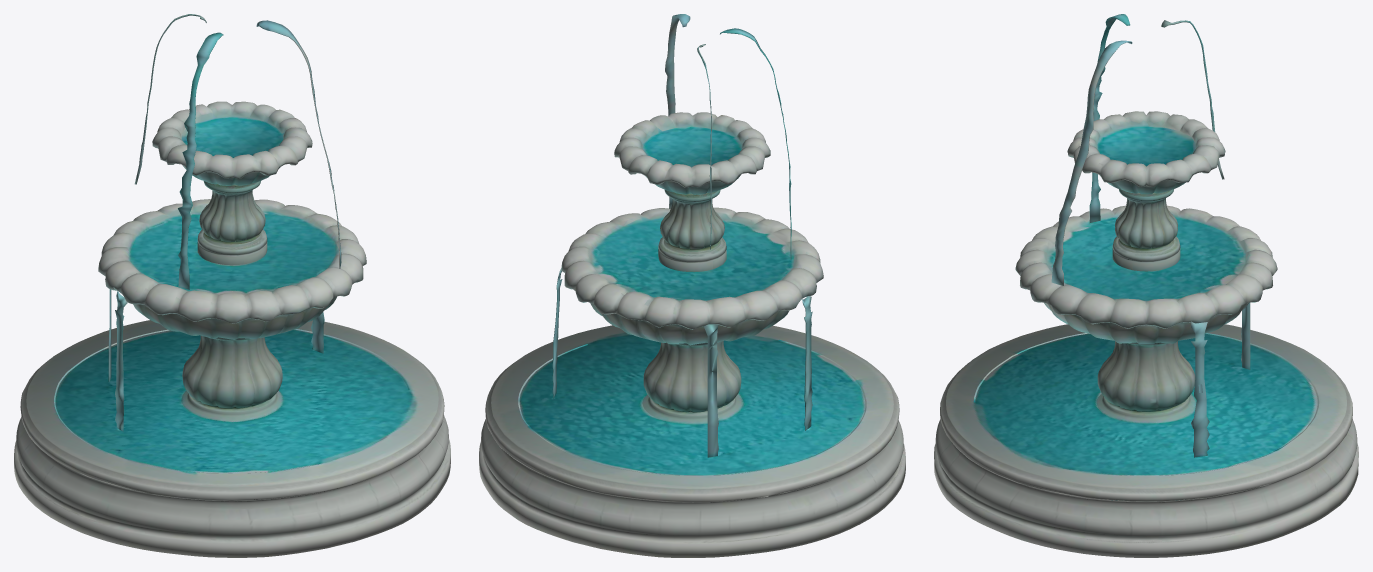
File: fountain_12fc89f5_v3.glb
3 views of the same model, side by side, from view 1: azimuth 30°, elevation 25°; view 2: azimuth 150°, elevation 25°; view 3: azimuth 270°, elevation 25° (orthographic). The views are drawn at different scales.
Visible parts, largest first — view 1: material; view 2: material; view 3: material.
Boxes of the visible parts, x1,y1,x2,y2 form: material: [14, 14, 450, 557]; material: [479, 14, 905, 557]; material: [934, 14, 1358, 557].
Size of the model in its own units: 1.69 by 1.9 by 1.68.
1 material, 1 textured.
